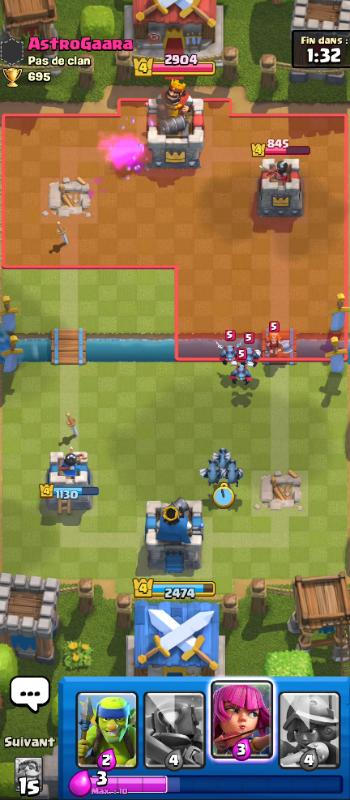gargouille: (222, 362, 257, 391), (235, 341, 261, 374), (219, 458, 244, 491), (211, 340, 239, 366), (199, 458, 223, 488), (211, 444, 234, 474)
valkyrie: (261, 333, 289, 364)
